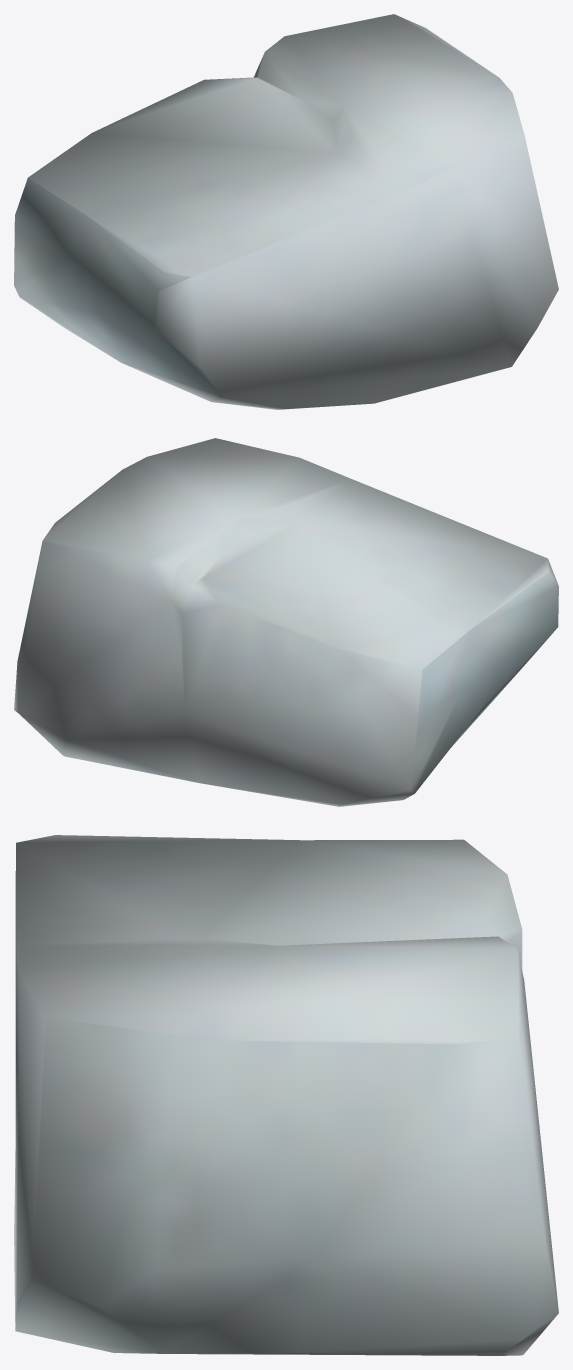
Rendered from P_RockCubic07.obj.
3 views of the same model, one above another, from view 1: azimuth 30°, elevation 25°; view 2: azimuth 150°, elevation 25°; view 3: azimuth 270°, elevation 25° (orthographic). The views are drawn at different scales.
Bounding box in the file's own units: 3.28 × 1.67 × 2.41.
